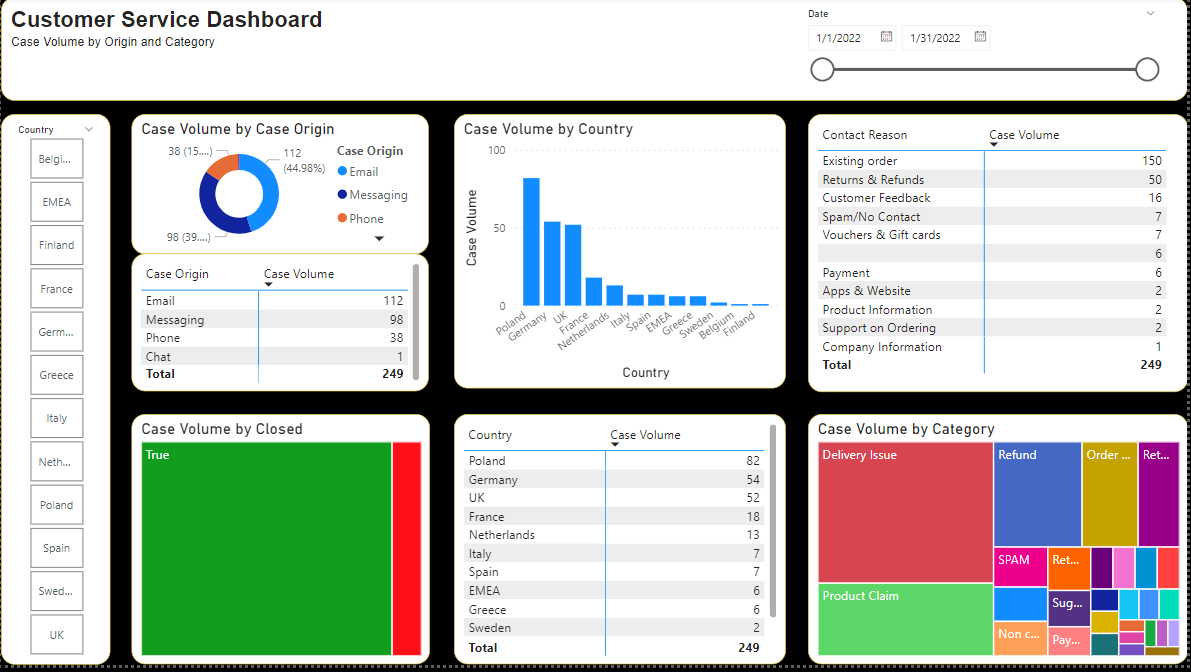

Layout of this report page (visuals, bound fields, positions):
{"tool":"powerbi","page":{"name":"CS by Origin and Category","canvas":[1280,720],"ordinal":0},"visuals":[{"type":"pivotTable","fields":{"Values":["CS Contacts.# of Cases (Case Volume)"],"Rows":["CS Contacts.Country"]},"box":[488,450,358,270],"z":0},{"type":"textbox","box":[0,0,1280,111.7],"z":1000},{"type":"donutChart","fields":{"Category":["CS Contacts.Case Origin"],"Y":["CS Contacts.# of Cases (Case Volume)"]},"box":[140.3,125.8,321,151.6],"z":2000},{"type":"pivotTable","fields":{"Values":["CS Contacts.# of Cases (Case Volume)"],"Rows":["CS Contacts.Contact Reason"]},"box":[870,126,410,300],"z":3000},{"type":"clusteredColumnChart","fields":{"Category":["CS Contacts.Country"],"Y":["CS Contacts.# of Cases (Case Volume)"]},"box":[488,126,358,296],"z":4000},{"type":"pivotTable","fields":{"Rows":["CS Contacts.Case Origin"],"Values":["CS Contacts.# of Cases (Case Volume)"]},"box":[140.3,277.4,321,148.4],"z":5000},{"type":"treemap","fields":{"Values":["CS Contacts.# of Cases (Case Volume)"],"Details":["CS Contacts.Category"]},"box":[870,450,410,270],"z":6000},{"type":"treemap","fields":{"Values":["CS Contacts.# of Cases (Case Volume)"],"Details":["CS Contacts.Closed"]},"box":[140,450,322,270],"z":7000},{"type":"slicer","fields":{"Values":["CS Contacts.Country"]},"box":[0,126,118,594],"z":8000},{"type":"slicer","fields":{"Values":["Calendar.Date"]},"box":[858.3,6.7,400,100],"z":9000}]}

Visuals, with their boxes in screenshot pixels (x1, y1, x2, y2), scaled from the page's 1280x720 canvas onto the 1191x672 screenshot:
pivotTable - CS Contacts.# of Cases (Case Volume) x CS Contacts.Country: bbox=[454, 420, 787, 671]
textbox: bbox=[0, 0, 1190, 104]
donutChart - CS Contacts.Case Origin x CS Contacts.# of Cases (Case Volume): bbox=[131, 117, 429, 259]
pivotTable - CS Contacts.# of Cases (Case Volume) x CS Contacts.Contact Reason: bbox=[810, 118, 1190, 398]
clusteredColumnChart - CS Contacts.Country x CS Contacts.# of Cases (Case Volume): bbox=[454, 118, 787, 394]
pivotTable - CS Contacts.Case Origin x CS Contacts.# of Cases (Case Volume): bbox=[131, 259, 429, 397]
treemap - CS Contacts.# of Cases (Case Volume) x CS Contacts.Category: bbox=[810, 420, 1190, 671]
treemap - CS Contacts.# of Cases (Case Volume) x CS Contacts.Closed: bbox=[130, 420, 430, 671]
slicer - CS Contacts.Country: bbox=[0, 118, 110, 671]
slicer - Calendar.Date: bbox=[799, 6, 1171, 100]
